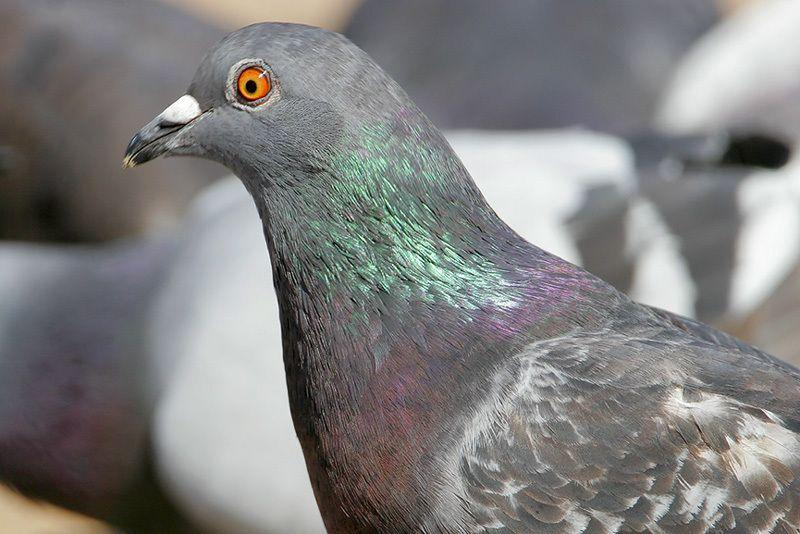Flying Rat: (139, 25, 800, 534)
